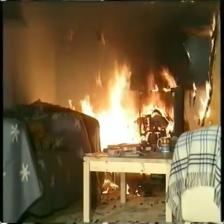fire: (65, 53, 143, 148), (144, 66, 180, 116)
